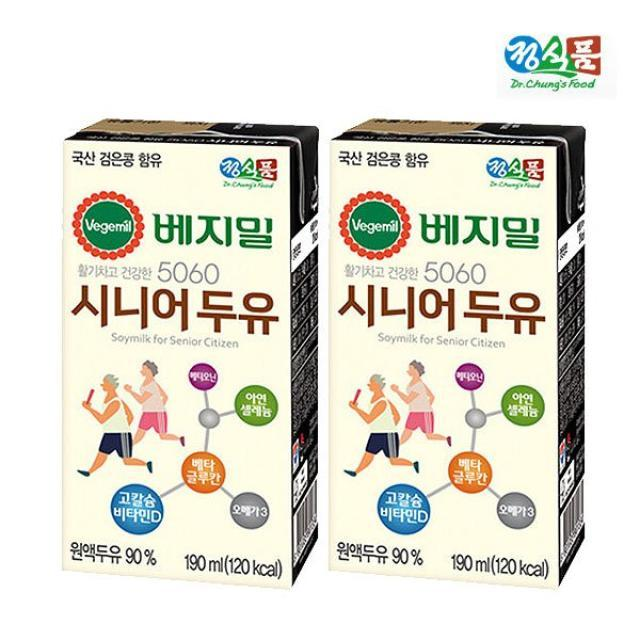Tetra: (27, 103, 327, 597), (318, 96, 606, 595)
